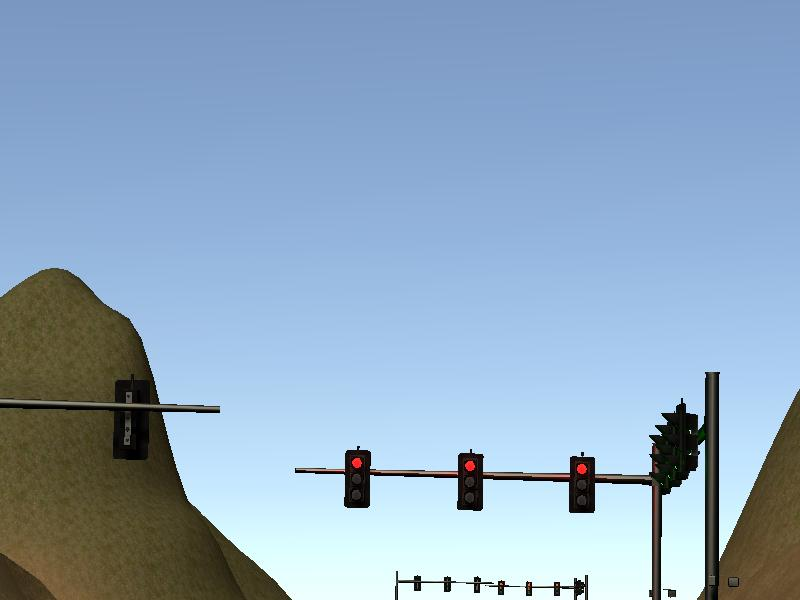Red: (345, 448, 370, 508), (458, 452, 483, 510), (570, 456, 595, 513)
